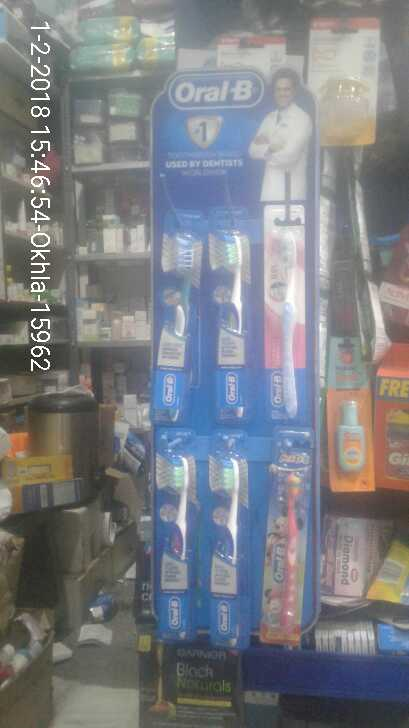pharmacy: (158, 227, 196, 424), (212, 225, 250, 422), (265, 223, 303, 420), (270, 470, 308, 667), (205, 451, 243, 648), (158, 442, 196, 639)
